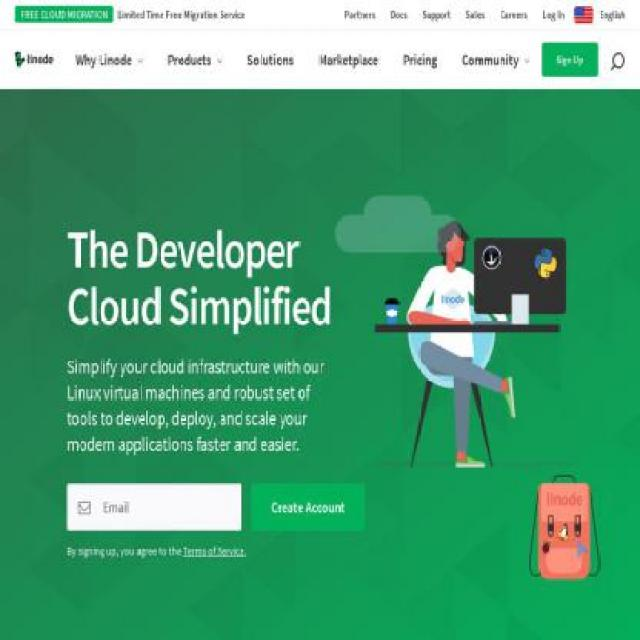button: (251, 482, 366, 532), (14, 6, 246, 25), (75, 39, 142, 79), (462, 39, 529, 79), (318, 39, 378, 79), (167, 39, 222, 79), (542, 41, 598, 77), (246, 39, 294, 79), (402, 39, 438, 79), (344, 0, 376, 31), (422, 0, 452, 31), (500, 0, 528, 31), (542, 0, 564, 31), (15, 51, 53, 68), (466, 0, 486, 31), (610, 39, 625, 79), (390, 0, 408, 31)
field: (66, 482, 242, 532)
